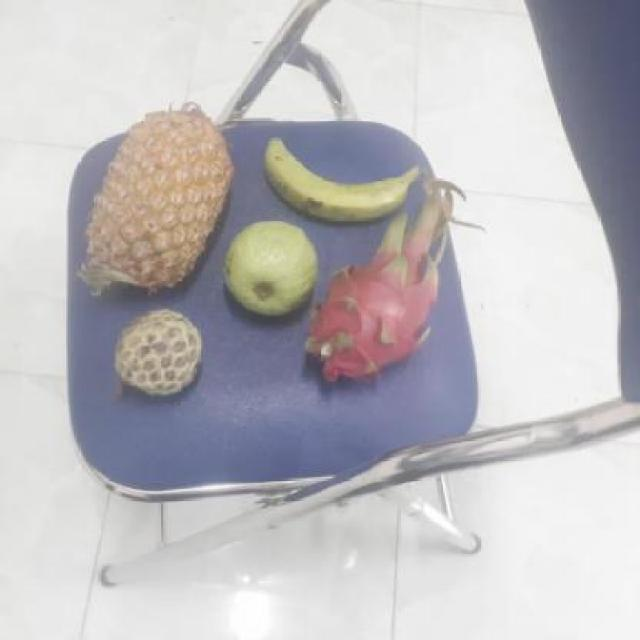banana: (260, 129, 417, 223)
dragon fruit: (302, 203, 440, 380)
guava: (217, 218, 320, 318)
pineapple: (75, 109, 230, 296)
sugar apple: (105, 310, 201, 399)
